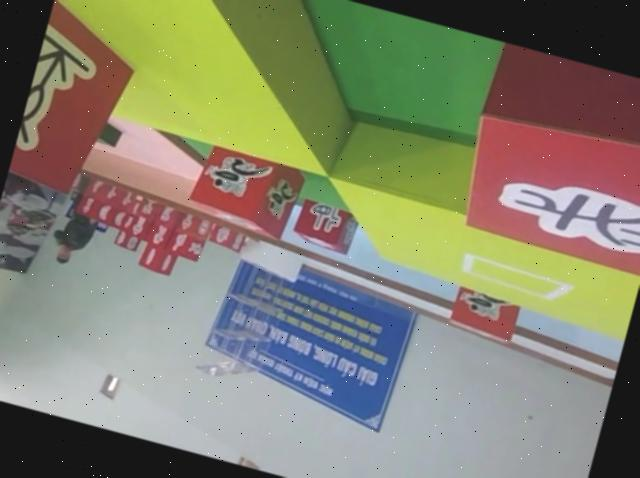R1: (179, 138, 309, 246), (443, 278, 527, 347)
R2 Real: (4, 0, 156, 208), (290, 197, 362, 258)
